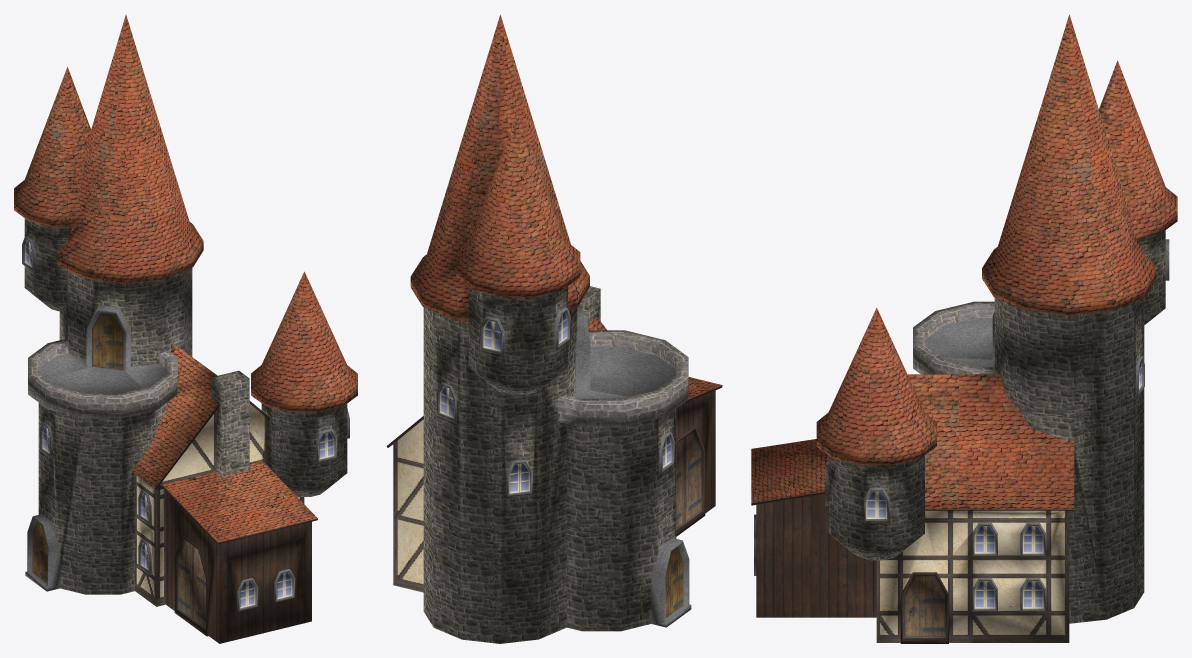
The model's file is mesh_tower.obj.
3 renders of one model, left to right at view 1: azimuth 30°, elevation 25°; view 2: azimuth 150°, elevation 25°; view 3: azimuth 270°, elevation 25°, orthographic. The views are drawn at different scales.
Visible parts, largest first — view 1: Default; view 2: Default; view 3: Default.
Boxes of the visible parts, x1,y1,x2,y2 form: Default: (14,15,357,643); Default: (386,14,722,643); Default: (751,14,1177,643).
Size of the model in its own units: 14 by 26.5 by 17.71.
1 material, 1 textured.
